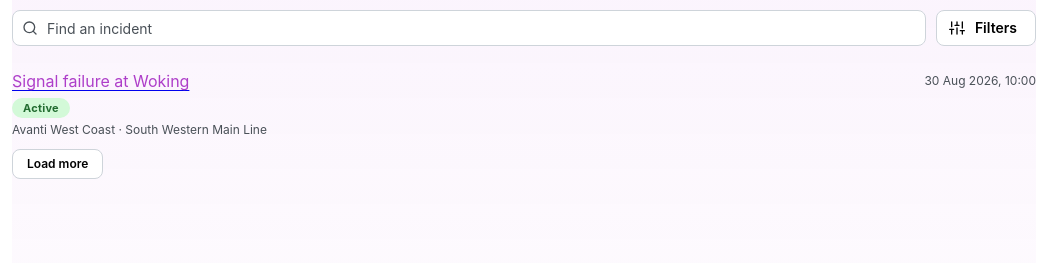
Test: IncidentSearchForm › does not claim the end of results when a "Load more" page fails -- it reports the failure and keeps the retry
The image size is (1048, 263).
Expected: the text "Signal failure at Woking" is shown, [12,69,189,94]
Click the button "Load more": (58, 164) [12,149,103,179]
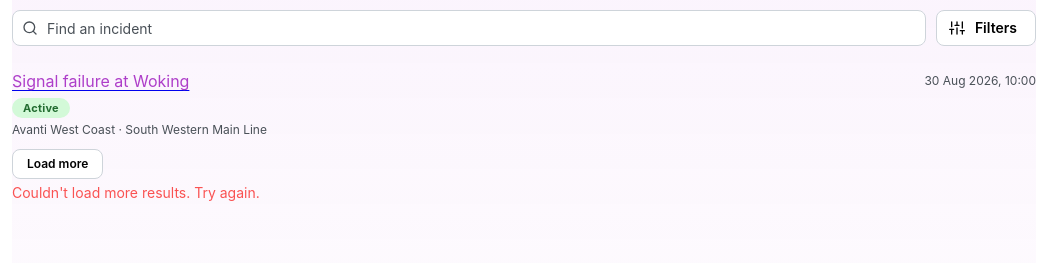
Expected: the text "You've reached the end" is not shown
Result: the text "Couldn't load more results. Try again." is shown at [12,184,260,201]
Click the button "Load more": (58, 164) [12,149,103,179]
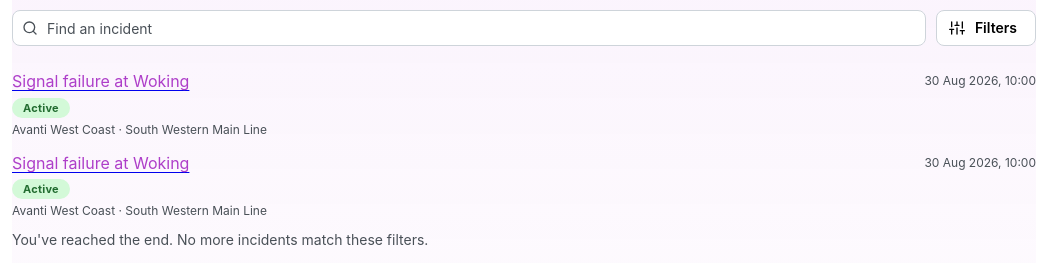
Result: the text "Signal failure at Woking" is shown 2 times at [12,69,189,94]; [12,151,189,175]
Result: the text "Couldn't load more results. Try again." is gone
